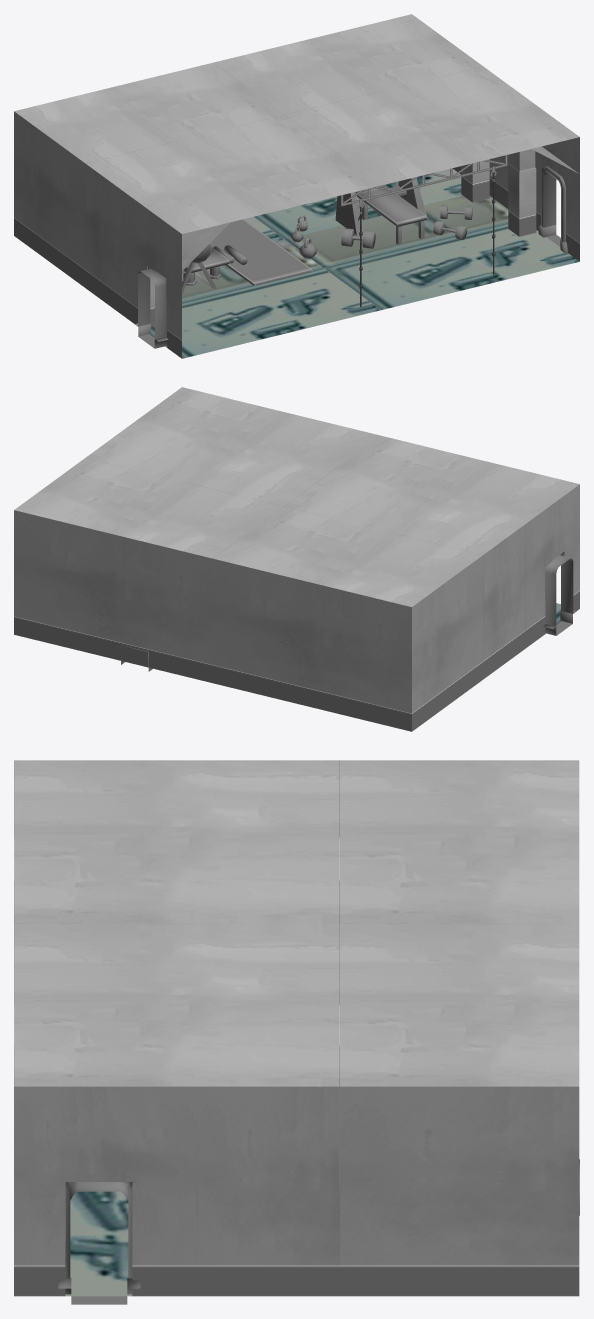
Rendered from MSH_GYM_room_L2_R2_optimized.fbx.
The picture shows the model from 3 angles, top to bottom: view 1: azimuth 30°, elevation 25°; view 2: azimuth 150°, elevation 25°; view 3: azimuth 270°, elevation 25°; orthographic projection. The views are drawn at different scales.
Parts seen in each view (by area): view 1: lightmap0, lightmap1, lightmap-1; view 2: lightmap0, lightmap-1; view 3: lightmap0, lightmap-1.
Boxes of the visible parts, x1,y1,x2,y2 form: lightmap0: (14, 14, 579, 358); lightmap1: (182, 155, 507, 307); lightmap-1: (138, 172, 560, 348); lightmap0: (14, 387, 579, 731); lightmap-1: (545, 555, 573, 635); lightmap0: (14, 760, 579, 1296); lightmap-1: (70, 1182, 128, 1304).
Bounding box in the file's own units: 20.61 × 6.06 × 14.36.
